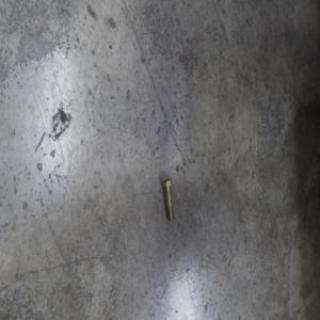Bolttrack_idkeyframe: (161, 176, 175, 222)
